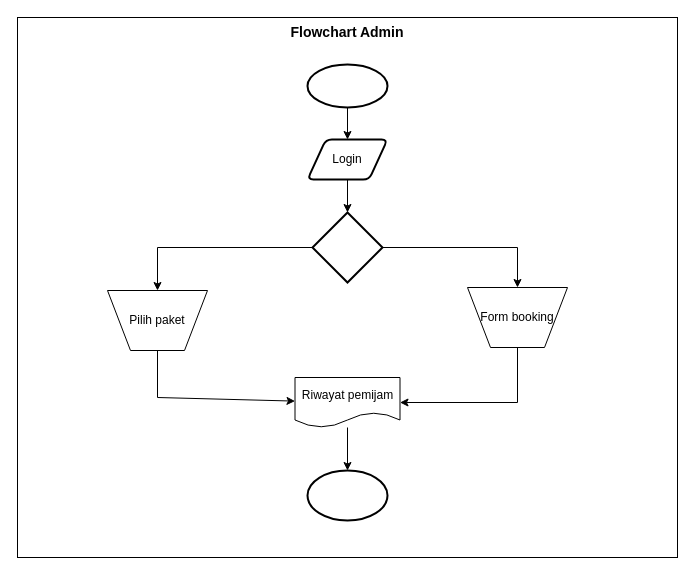
Some shapes in this 695 by 575 pixel diagram are drawn without their labels. Each missing label, with the centre of its shape:
"Booking" belongs at (347,247).
"Mulai" belongs at (347,85).
"Selesai" belongs at (347,495).
